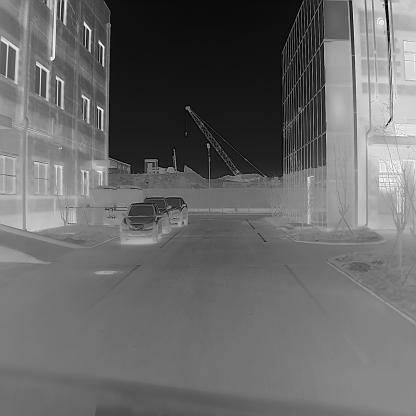car: (119, 202, 162, 244), (141, 196, 172, 233), (163, 195, 188, 228)
